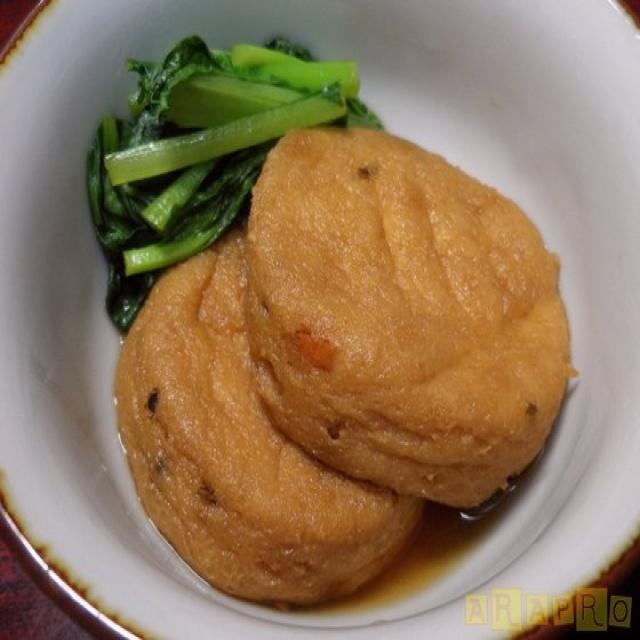熟制海鲜: (83, 137, 448, 640)
